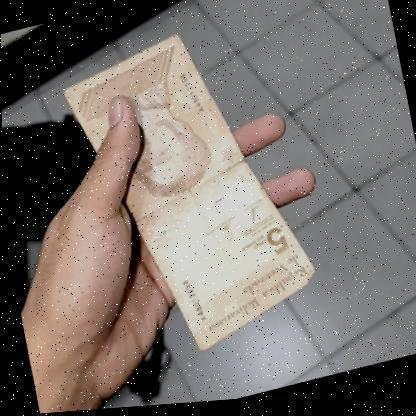five-front-vef: (57, 13, 324, 378)
